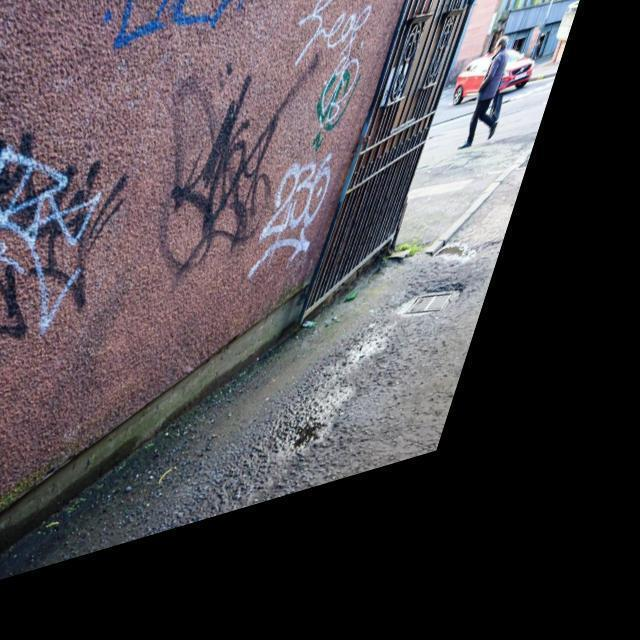nonspitting: (162, 53, 288, 279), (0, 128, 127, 342), (291, 4, 372, 151), (246, 154, 333, 273), (101, 0, 246, 47)
